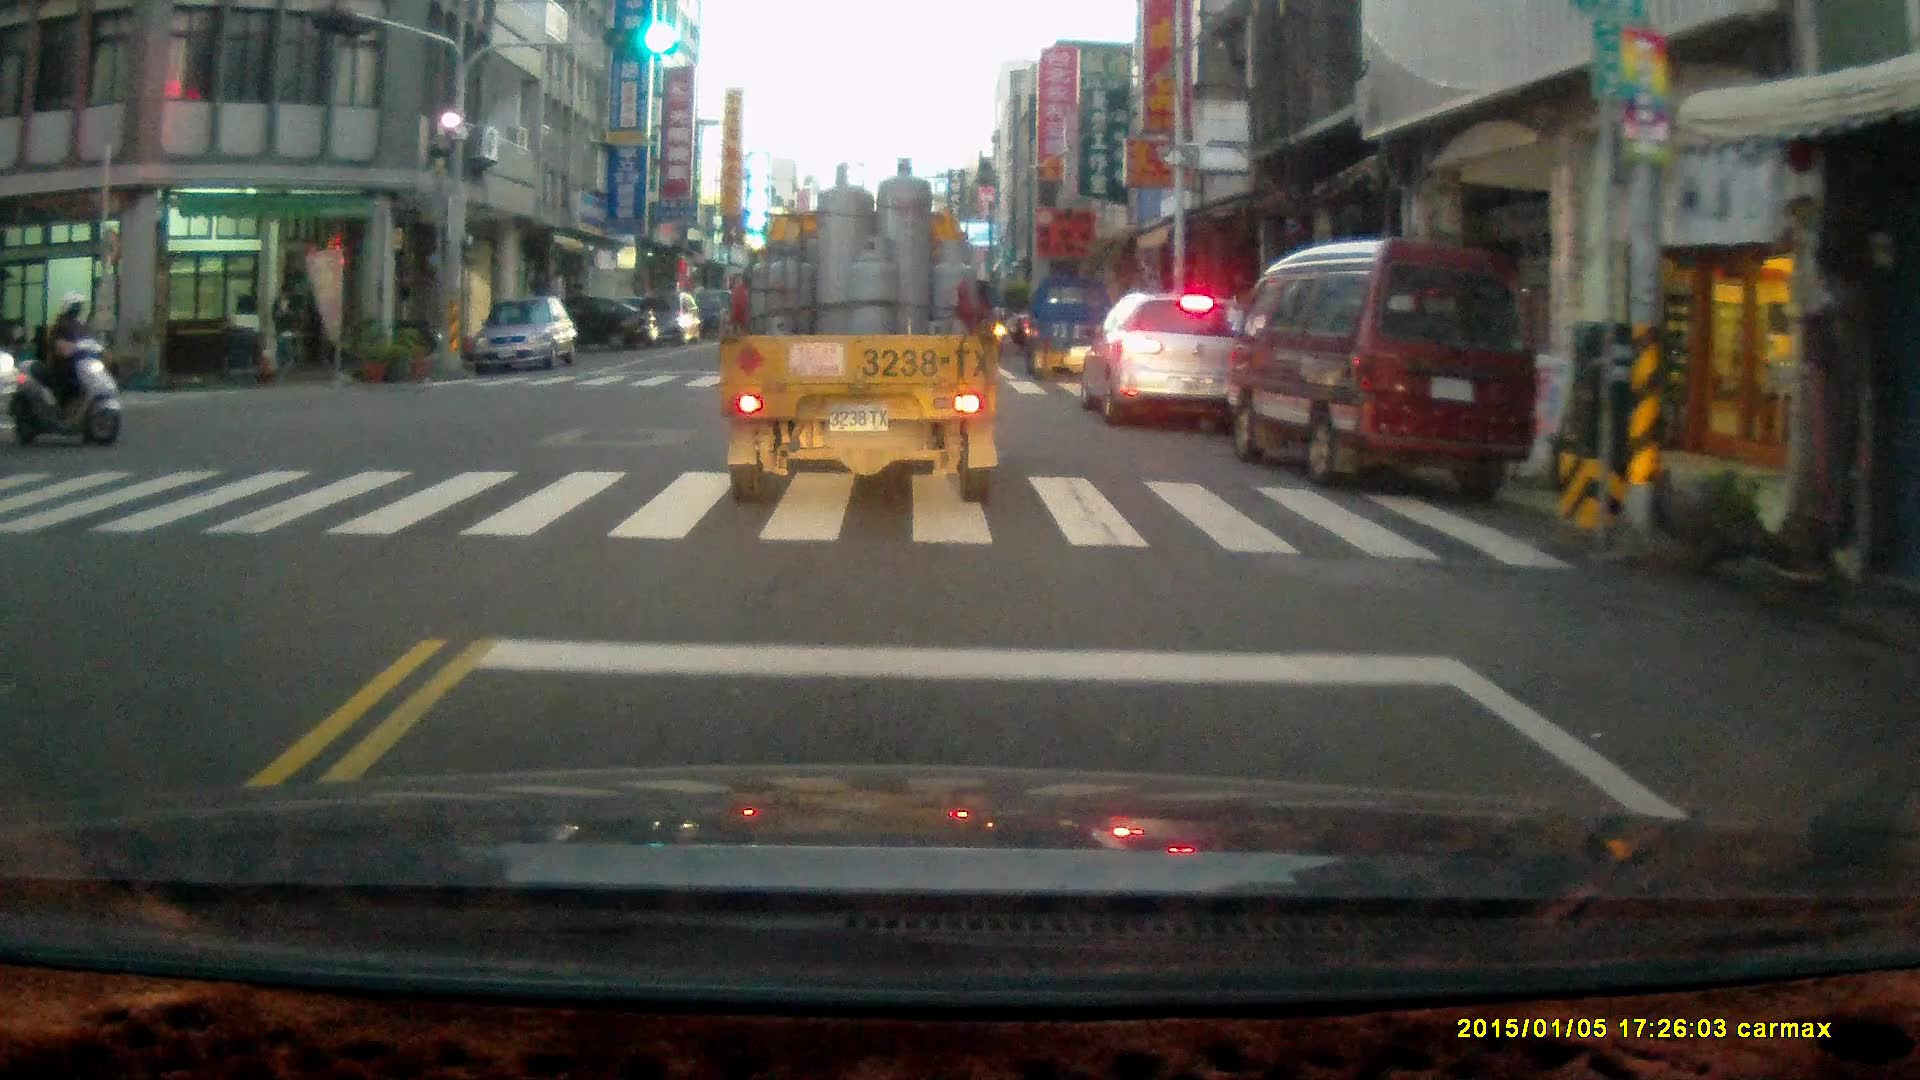pedestrian: (267, 277, 301, 384)
rider: (7, 296, 127, 449)
vehicle: (721, 162, 1000, 511), (1234, 244, 1542, 504), (1076, 289, 1264, 441), (1027, 276, 1127, 385), (514, 297, 654, 360), (472, 300, 581, 379), (624, 286, 696, 346)
